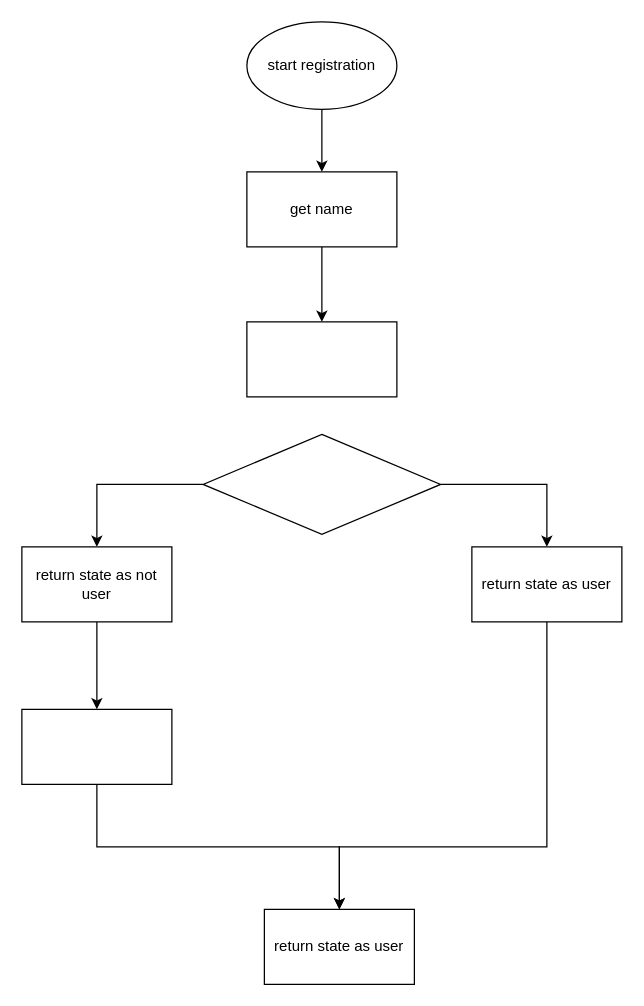
The diagram is 644 pixels wide and 1006 high, and some of its shapes have lost their labels. The shapes that lost their labels are listed below. From the top down, each one's box as (x1, y1, x2, y2) in pixels, then its label:
(246, 321, 397, 397): read db.csv
(202, 433, 441, 534): if name is included in db.csv
(21, 708, 172, 784): write the name and passcode input to db.csv
